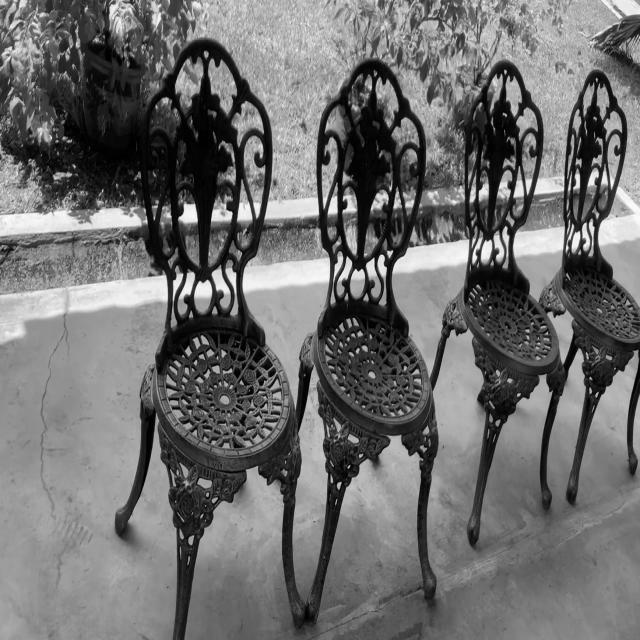chair: (113, 36, 306, 640), (298, 54, 444, 632), (422, 45, 566, 556), (551, 64, 640, 519)
